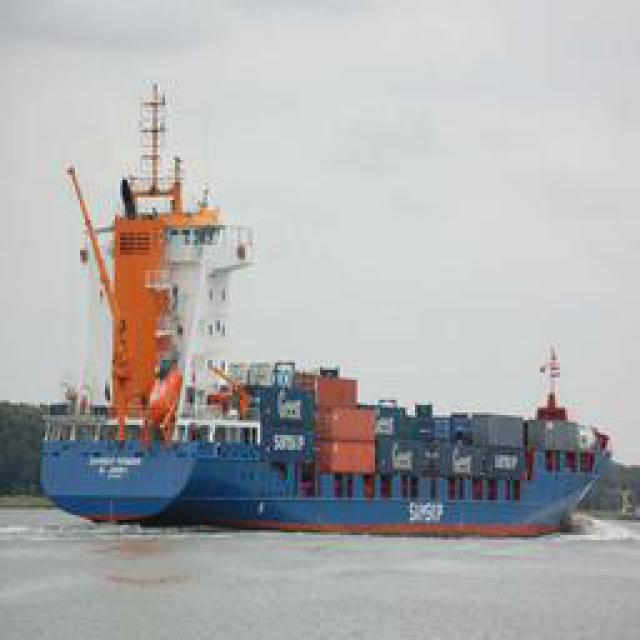Ship: (22, 339, 630, 542)
